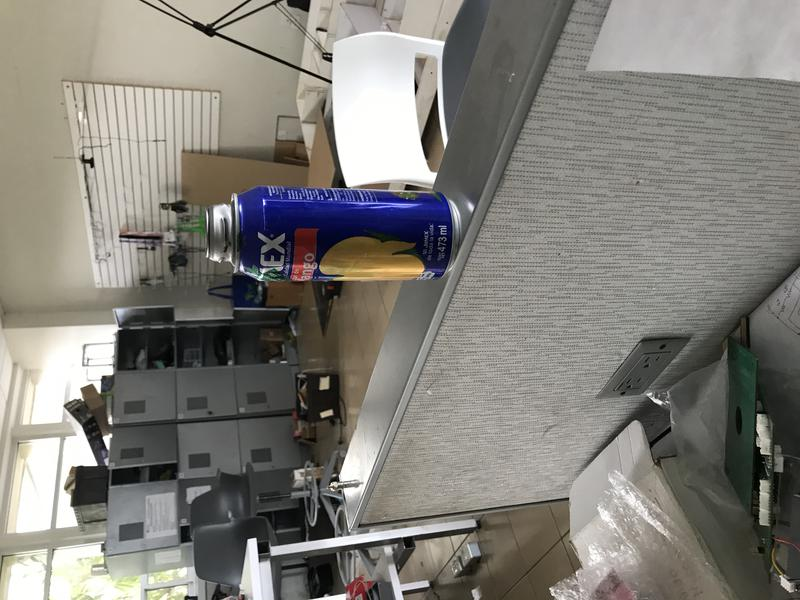jumex_botella: (205, 186, 464, 287)
